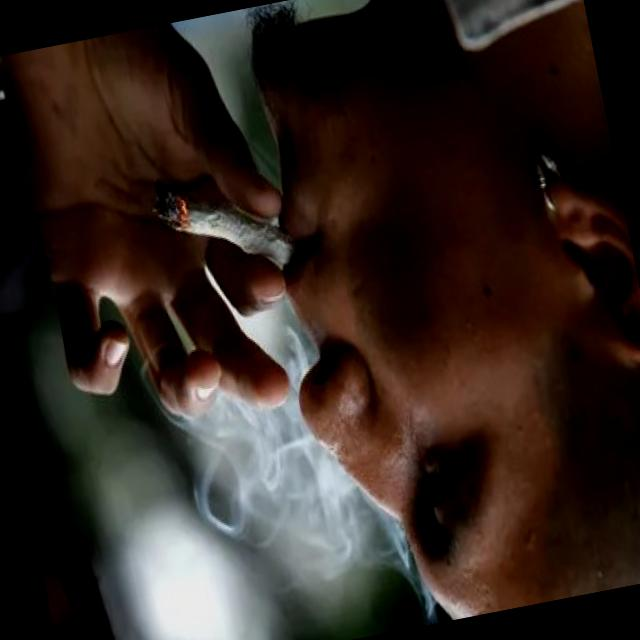smoke: (148, 165, 306, 292)
